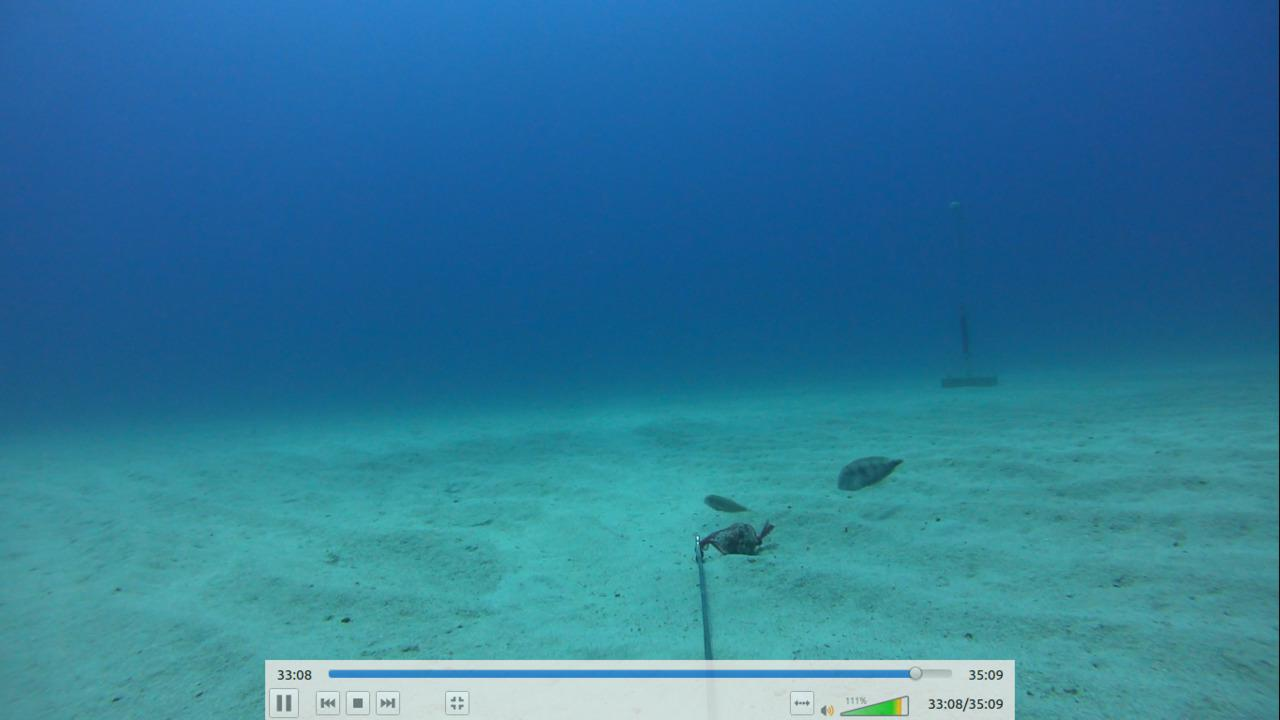raor: (828, 449, 910, 494), (698, 482, 750, 518)
